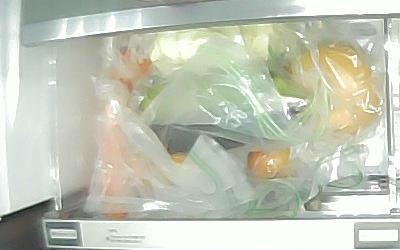cabbage_vinyl: (154, 24, 273, 75)
eggplant_vinyl: (152, 100, 313, 155)
pear_vinyl: (290, 42, 375, 135)
prune_vinyl: (246, 136, 294, 181)
